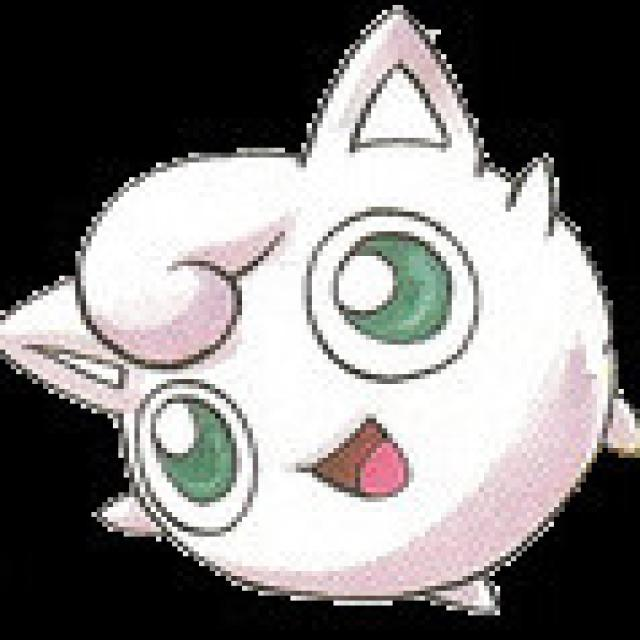Jigglypuff: (42, 99, 627, 621)
